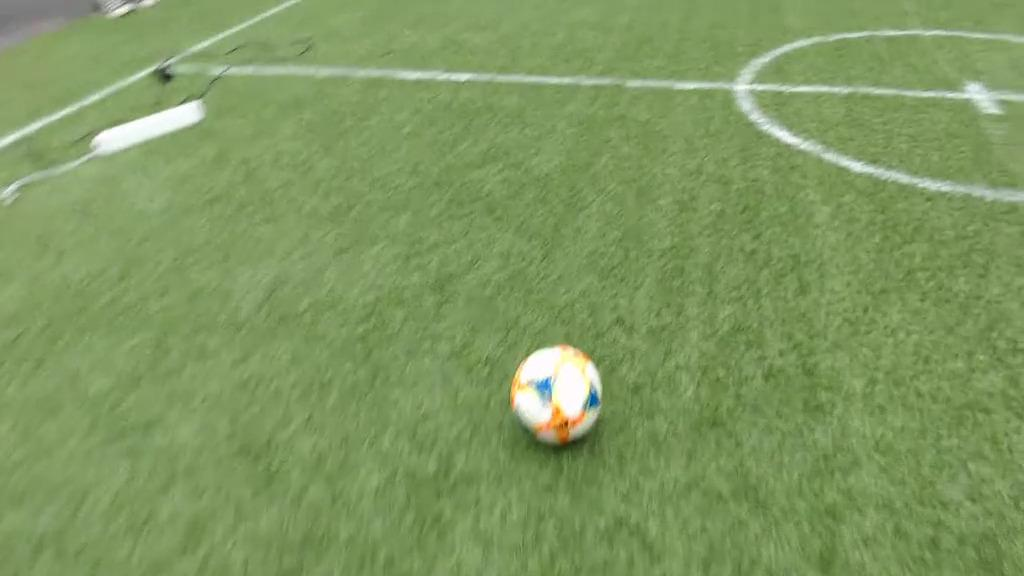ball: (513, 344, 603, 445)
